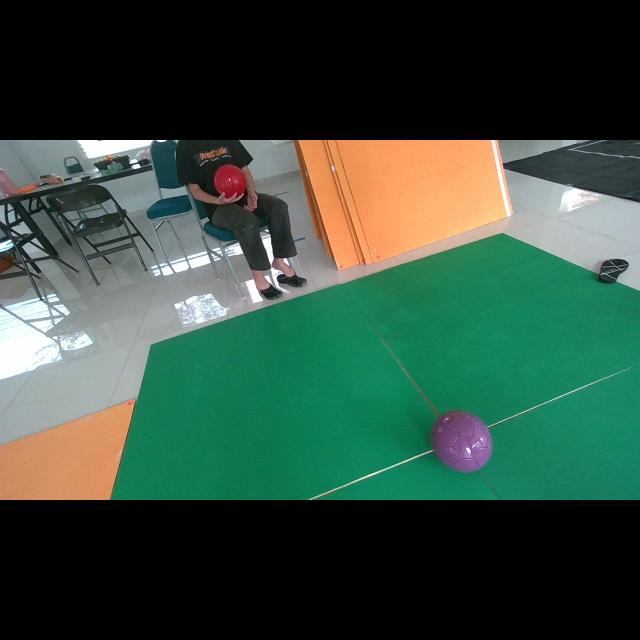P: (430, 411, 492, 472)
R: (214, 164, 246, 198)
